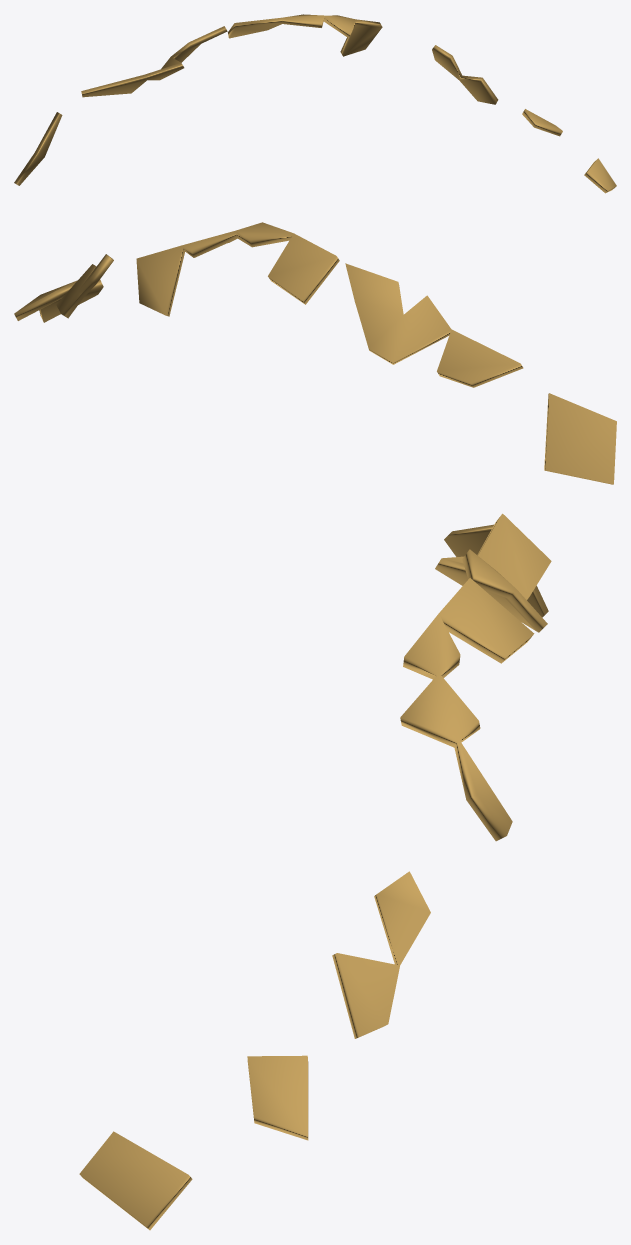
3 views of the same model, one above another, from view 1: azimuth 30°, elevation 25°; view 2: azimuth 150°, elevation 25°; view 3: azimuth 270°, elevation 25° (orthographic). The views are drawn at different scales.
Parts seen in each view (by area): view 1: 左侧腕掌背侧韧带; view 2: 左侧腕掌背侧韧带; view 3: 左侧腕掌背侧韧带.
Part boxes in pixels (x1,y1,x2,y2): 左侧腕掌背侧韧带: [14, 14, 616, 193]; 左侧腕掌背侧韧带: [14, 222, 616, 484]; 左侧腕掌背侧韧带: [79, 513, 551, 1230].
Bounding box in the file's own units: 0.0689 × 0.0233 × 0.0274.
